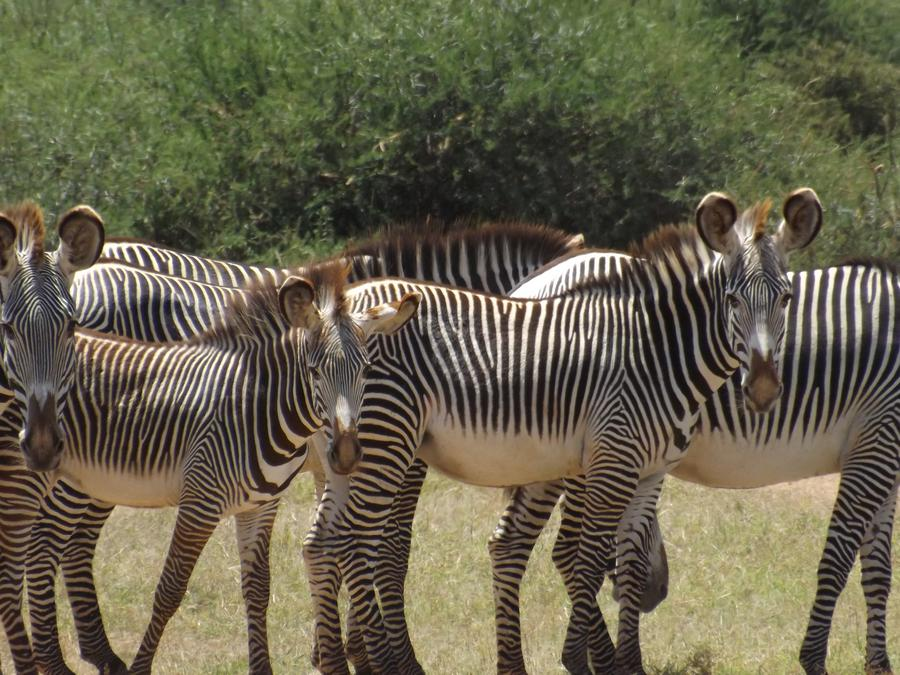zebra_grevys: (409, 268, 646, 490)
